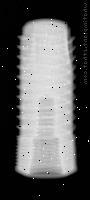Euroteknika: (15, 17, 78, 178)
